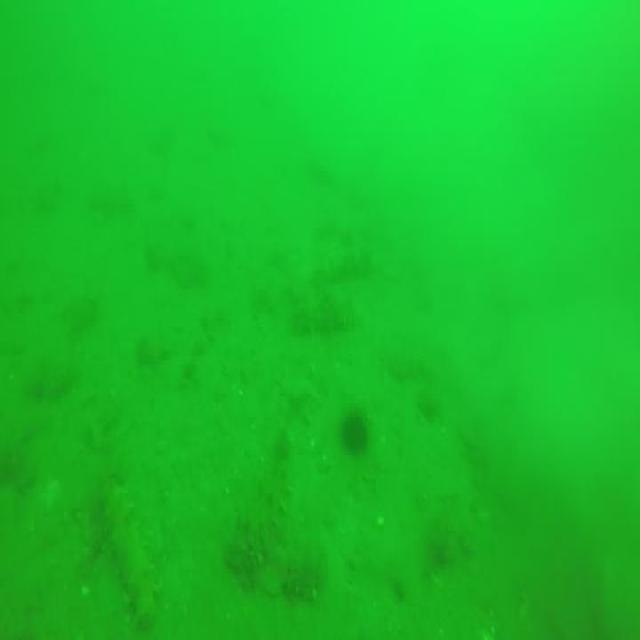echinus: (343, 409, 369, 462)
holothurian: (225, 428, 295, 585), (94, 484, 158, 620), (295, 297, 361, 338)
